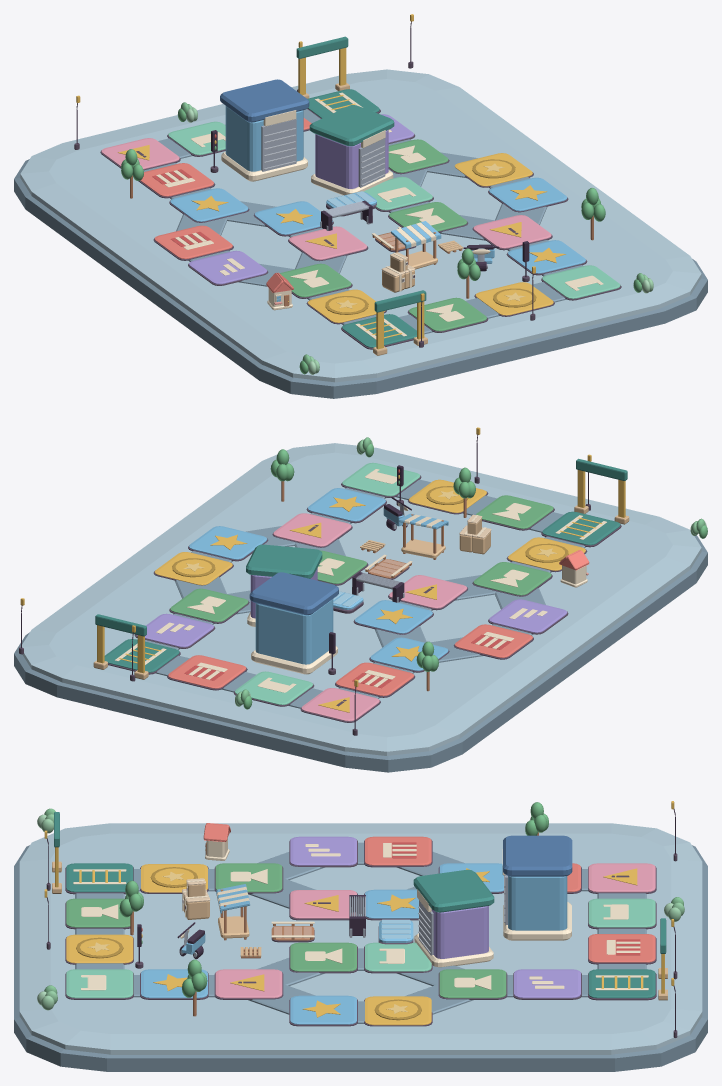
Rendered from pho_giao_hang.glb.
3 views of the same model, one above another, from view 1: azimuth 30°, elevation 25°; view 2: azimuth 150°, elevation 25°; view 3: azimuth 270°, elevation 25° (orthographic). The views are drawn at different scales.
Parts seen in each view (by area): view 1: island_top, island_base, warehouse_a0_roof, warehouse_a0_walls, warehouse_b1_roof, warehouse_b1_walls, C13, F01_L2, F01_L1, F02_R2, C03, F01_R1 (+30 smaller); view 2: island_top, island_base, warehouse_a0_walls, warehouse_a0_roof, warehouse_b1_roof, C07, F01_L2, C05, C00, F01_L1, C10, C12 (+28 smaller); view 3: island_top, island_base, warehouse_a0_walls, warehouse_a0_roof, warehouse_b1_walls, warehouse_b1_roof, C08, F02_R2, F01_L2, F02_L2, F01_L1, C10 (+38 smaller).
Boxes of the visible parts, <box> form: island_top: <box>20,69,701,382</box>; island_base: <box>14,159,707,398</box>; warehouse_a0_roof: <box>220,79,309,122</box>; warehouse_a0_walls: <box>225,106,303,171</box>; warehouse_b1_roof: <box>309,105,394,146</box>; warehouse_b1_walls: <box>315,130,388,188</box>; C13: <box>541,265,621,300</box>; F01_L2: <box>153,225,233,260</box>; F01_L1: <box>188,250,268,285</box>; F02_R2: <box>488,177,568,212</box>; C03: <box>169,188,249,222</box>; F01_R1: <box>288,226,368,261</box>; island_top: <box>22,443,701,755</box>; island_base: <box>14,535,707,772</box>; warehouse_a0_walls: <box>255,599,333,664</box>; warehouse_a0_roof: <box>249,572,338,615</box>; warehouse_b1_roof: <box>246,544,322,578</box>; C07: <box>167,655,247,690</box>; F01_L2: <box>453,624,533,659</box>; C05: <box>300,688,380,722</box>; C00: <box>541,511,621,547</box>; F01_L1: <box>488,599,568,634</box>; C10: <box>169,588,249,623</box>; C12: <box>306,488,386,523</box>; island_top: <box>19,823,702,1054</box>; island_base: <box>14,845,707,1071</box>; warehouse_a0_walls: <box>508,876,567,930</box>; warehouse_a0_roof: <box>503,835,572,876</box>; warehouse_b1_walls: <box>431,906,488,958</box>; warehouse_b1_roof: <box>413,869,494,912</box>; C08: <box>588,969,656,1000</box>; F02_R2: <box>289,995,357,1026</box>; F01_L2: <box>364,836,432,867</box>; F02_L2: <box>289,942,357,973</box>; F01_L1: <box>289,836,357,867</box>; C10: <box>438,969,507,999</box>.
Bounding box in the file's own units: 14.68 × 3.07 × 18.6.
